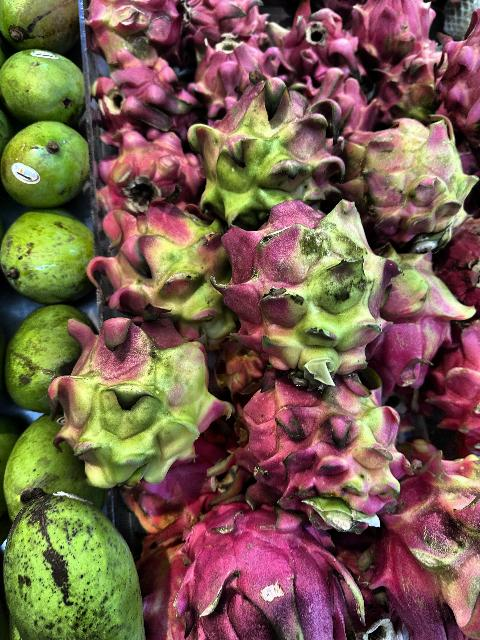buah-naga-belum-matang: (212, 196, 398, 380), (44, 312, 234, 488), (233, 374, 410, 538), (188, 63, 348, 231), (86, 202, 238, 352), (338, 106, 480, 246), (364, 232, 476, 386), (394, 450, 480, 640), (83, 0, 183, 64), (368, 44, 444, 122), (436, 5, 480, 130)
buah-naga-matang: (175, 502, 365, 640), (90, 53, 192, 139), (103, 132, 208, 212), (184, 34, 284, 116), (273, 0, 359, 78), (426, 332, 480, 438), (350, 0, 446, 50), (182, 0, 274, 52)
